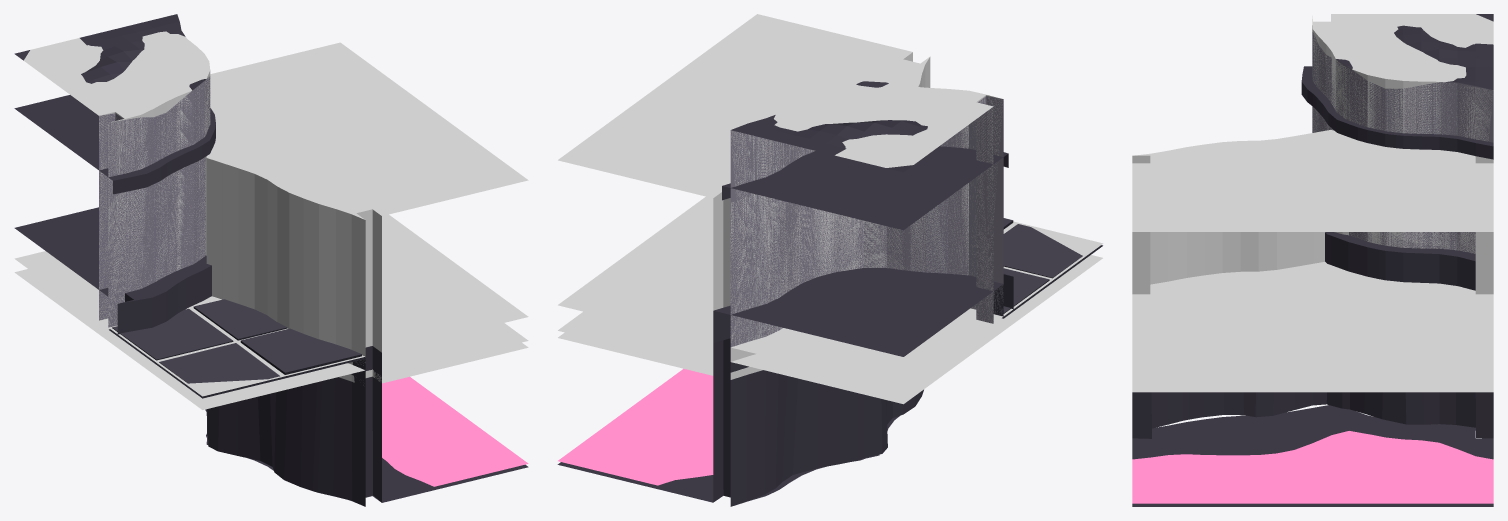
The model's file is Tile_WLLF.fbx.
3 renders of one model, left to right at view 1: azimuth 30°, elevation 25°; view 2: azimuth 150°, elevation 25°; view 3: azimuth 270°, elevation 25°, orthographic. The views are drawn at different scales.
Visible parts, largest first — view 1: Tile_WLLF, Tile_WLLF_ColCrackBlocker, Tile_WLLF_ColWall, Tile_WLLF_ColGround, Tile_WLLF_ColCrackSurface; view 2: Tile_WLLF, Tile_WLLF_ColCrackBlocker, Tile_WLLF_ColWall, Tile_WLLF_ColGround, Tile_WLLF_ColCrackSurface; view 3: Tile_WLLF_ColCrackBlocker, Tile_WLLF, Tile_WLLF_ColWall, Tile_WLLF_ColCrackSurface.
Boxes of the visible parts, <box> form: Tile_WLLF: <box>14,14,528,506</box>; Tile_WLLF_ColCrackBlocker: <box>206,42,528,356</box>; Tile_WLLF_ColWall: <box>14,31,210,326</box>; Tile_WLLF_ColGround: <box>14,251,365,409</box>; Tile_WLLF_ColCrackSurface: <box>338,323,528,385</box>; Tile_WLLF: <box>557,81,1102,506</box>; Tile_WLLF_ColCrackBlocker: <box>558,14,930,346</box>; Tile_WLLF_ColWall: <box>731,83,1003,388</box>; Tile_WLLF_ColGround: <box>730,221,1103,404</box>; Tile_WLLF_ColCrackSurface: <box>558,311,762,379</box>; Tile_WLLF_ColCrackBlocker: <box>1132,130,1493,362</box>; Tile_WLLF: <box>1132,14,1493,506</box>; Tile_WLLF_ColWall: <box>1312,14,1493,253</box>; Tile_WLLF_ColCrackSurface: <box>1132,363,1493,392</box>.
Size of the model in its own units: 5 by 5.25 by 5.
